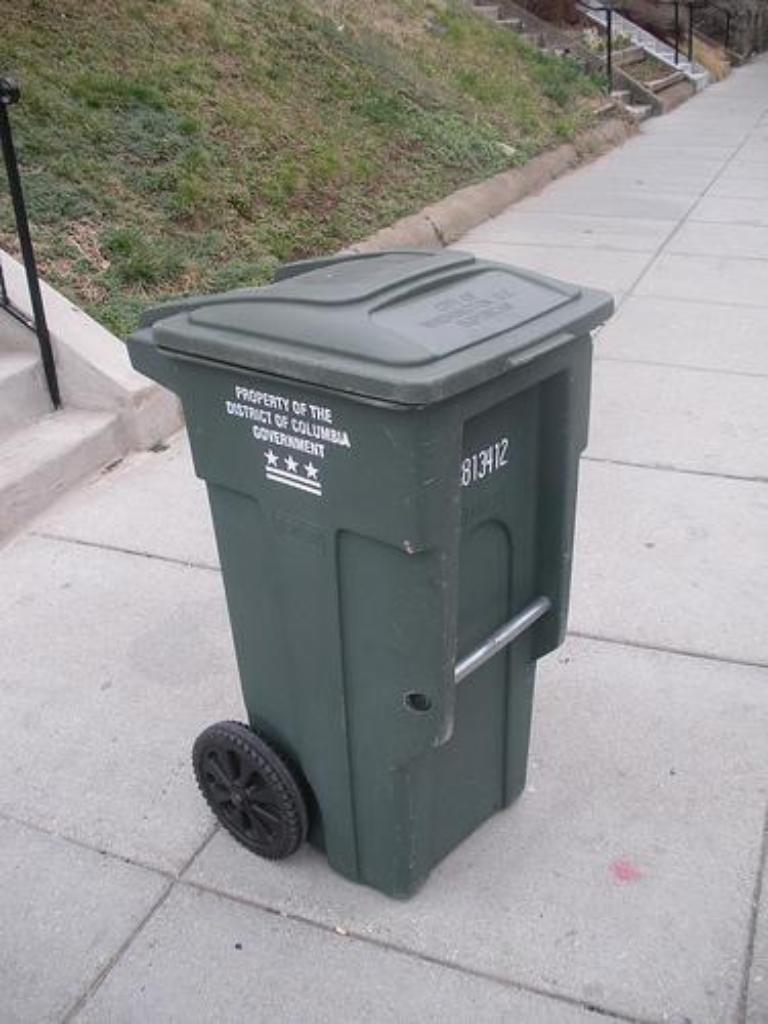dustbin: (135, 220, 641, 920)
